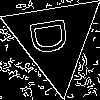D: (29, 14, 77, 57)
